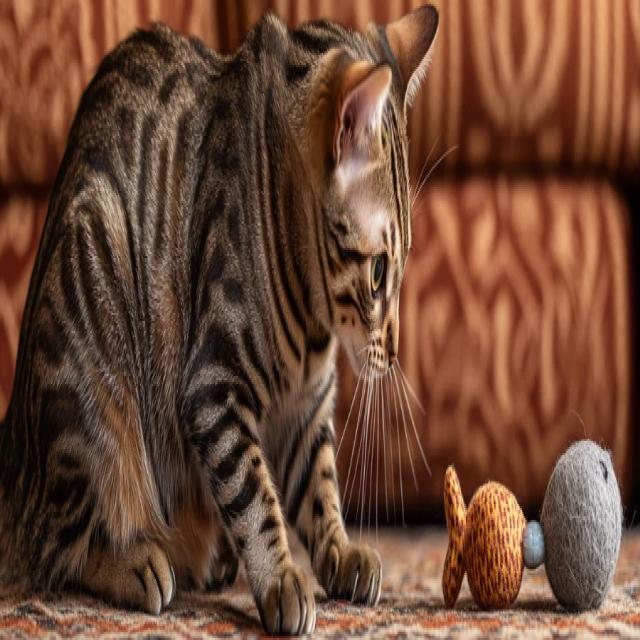Toyger: (0, 0, 442, 640)
